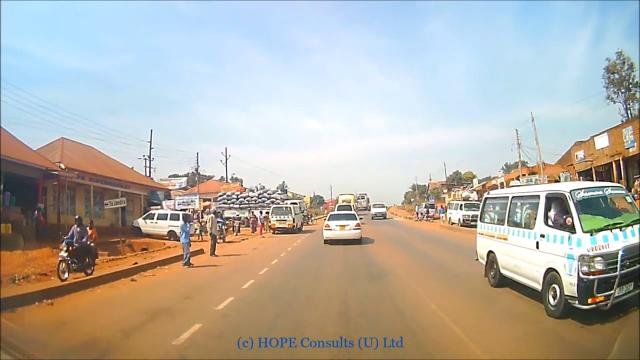car: (322, 209, 364, 245)
motorcycle: (51, 235, 99, 285)
van: (479, 182, 640, 311), (131, 206, 191, 242), (266, 201, 302, 232), (445, 196, 479, 227), (370, 201, 389, 222), (418, 202, 437, 220)
